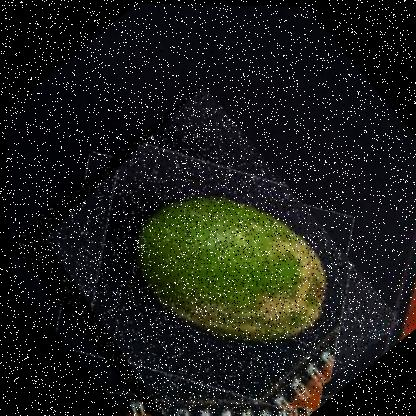orange_rotten: (2, 78, 402, 415)
